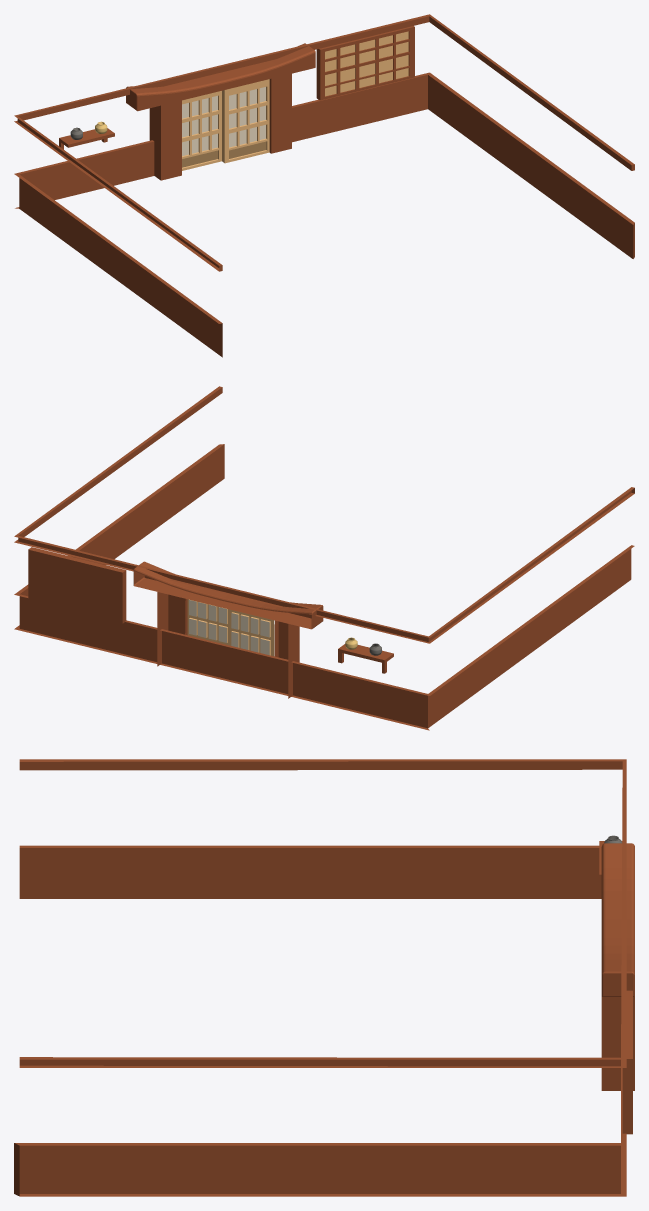
File: japanese_bg.fbx
3 renders of one model, top to bottom at view 1: azimuth 30°, elevation 25°; view 2: azimuth 150°, elevation 25°; view 3: azimuth 270°, elevation 25°, orthographic. The views are drawn at different scales.
Parts seen in each view (by area): view 1: Plane.003, Cube.002, Plane.002, Plane.001, Cube; view 2: Plane.003, Cube.002, Plane.002, Plane.001, Cube; view 3: Plane.003, Plane.002, Cube.002, Plane.001.
Part boxes in pixels (x1=…): Plane.003: x1=14, y1=72, x2=634, y2=357; Cube.002: x1=126, y1=43, x2=315, y2=180; Plane.002: x1=14, y1=14, x2=634, y2=271; Plane.001: x1=316, y1=26, x2=414, y2=100; Cube: x1=59, y1=128, x2=114, y2=149; Plane.003: x1=14, y1=444, x2=634, y2=730; Cube.002: x1=133, y1=561, x2=323, y2=698; Plane.002: x1=14, y1=386, x2=634, y2=643; Plane.001: x1=28, y1=547, x2=126, y2=623; Cube: x1=338, y1=644, x2=393, y2=673; Plane.003: x1=14, y1=845, x2=626, y2=1196; Plane.002: x1=19, y1=759, x2=626, y2=1067; Cube.002: x1=601, y1=843, x2=634, y2=1090; Plane.001: x1=622, y1=990, x2=632, y2=1134.
Bounding box in the file's own units: 484 × 103 × 423.
